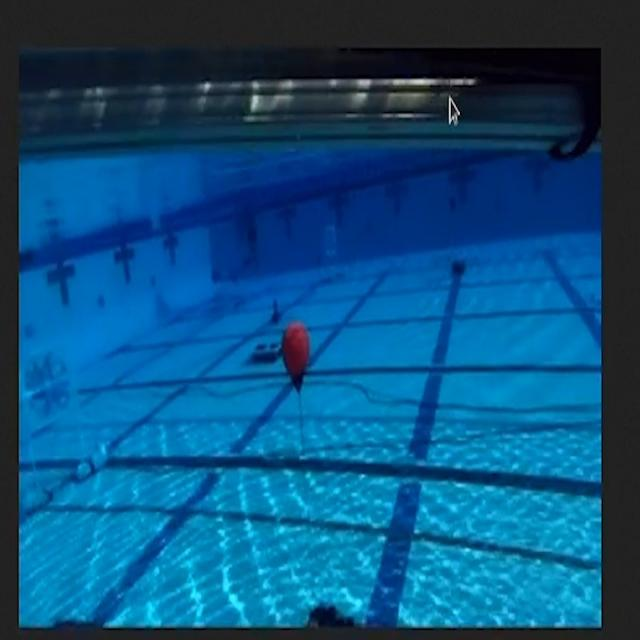Buoy: (269, 303, 330, 422)
